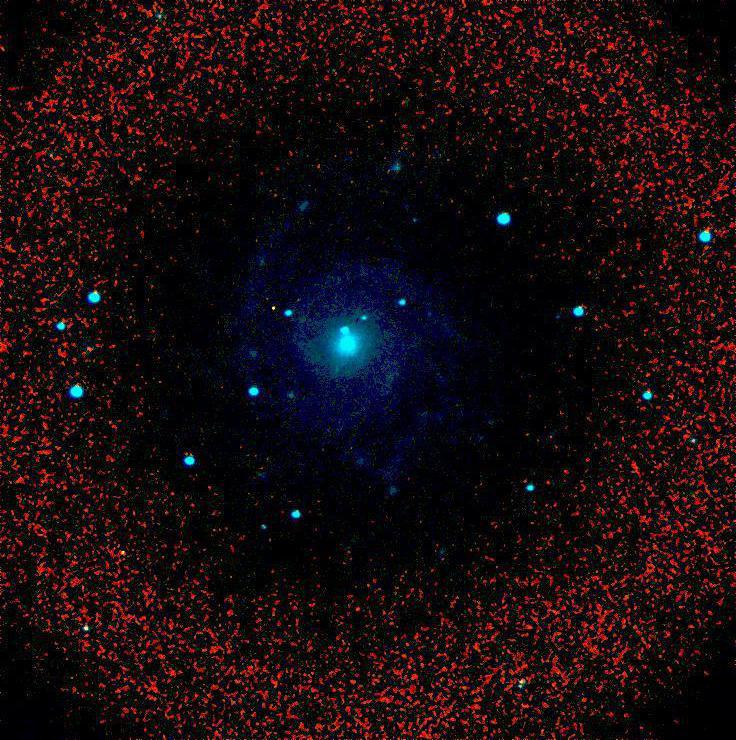star: (260, 293, 290, 323)
